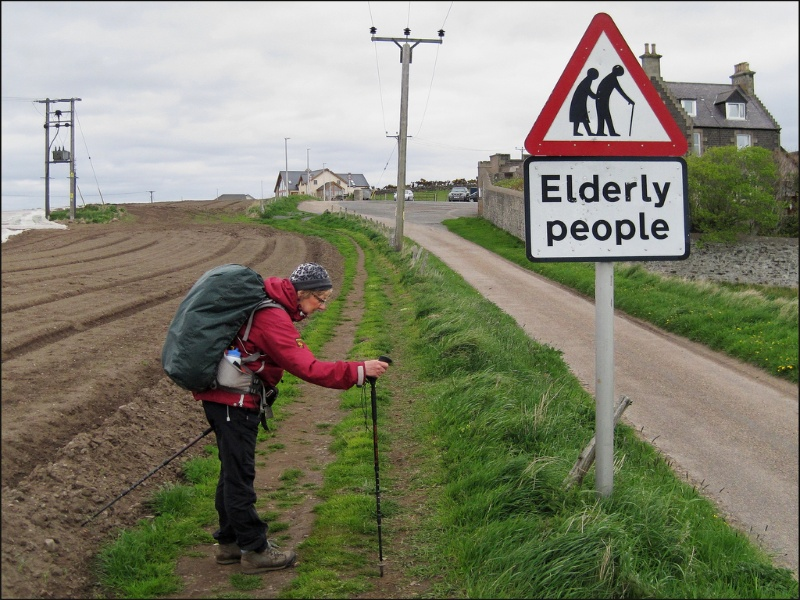pedestrian_crossing_ahead: (520, 9, 697, 161)
